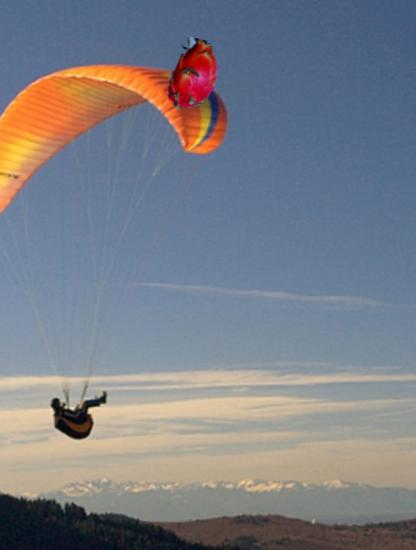Pitahaya: (157, 39, 231, 113)
